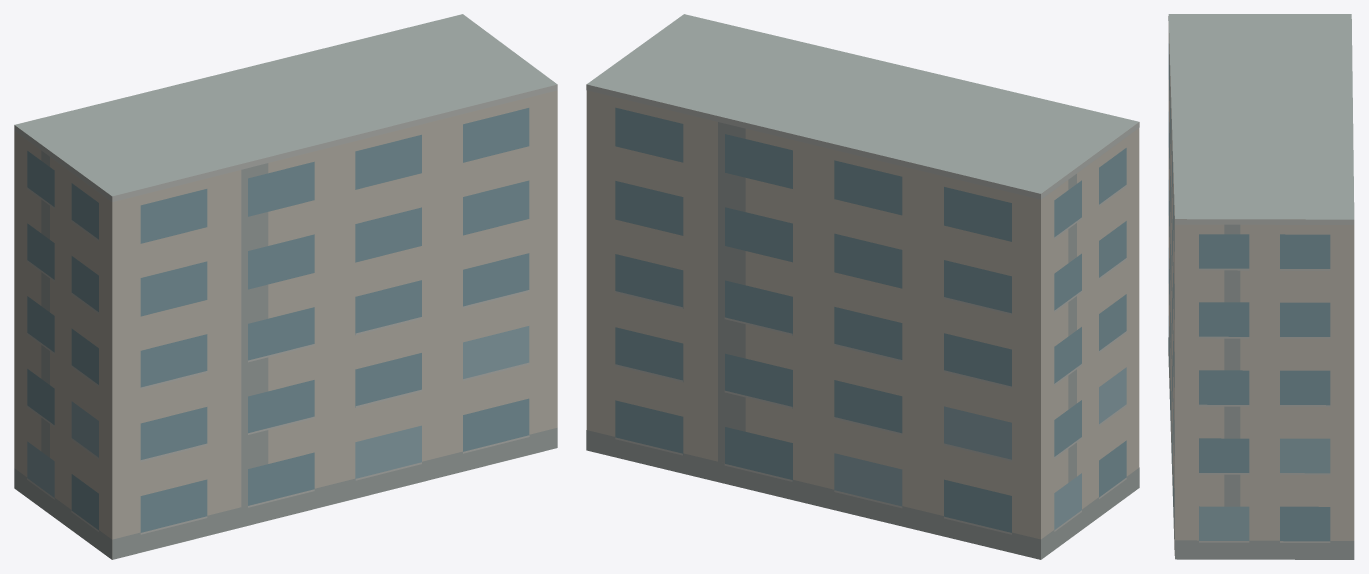
The model's file is survey-upis-32809351.glb.
3 renders of one model, left to right at view 1: azimuth 30°, elevation 25°; view 2: azimuth 150°, elevation 25°; view 3: azimuth 270°, elevation 25°, orthographic. The views are drawn at different scales.
Visible parts, largest first — view 1: survey-upis-32809351.tmp; view 2: survey-upis-32809351.tmp; view 3: survey-upis-32809351.tmp.
Boxes of the visible parts, box(x1,y1,x2,y2) form: survey-upis-32809351.tmp: box(14, 14, 557, 559); survey-upis-32809351.tmp: box(586, 14, 1139, 559); survey-upis-32809351.tmp: box(1168, 14, 1354, 559).
Bounding box in the file's own units: 19.78 × 15.25 × 7.56.
